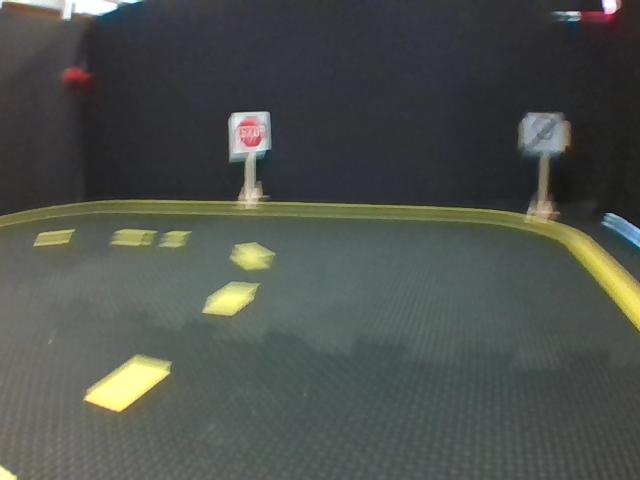no30: (525, 113, 563, 153)
stop: (229, 112, 270, 152)
